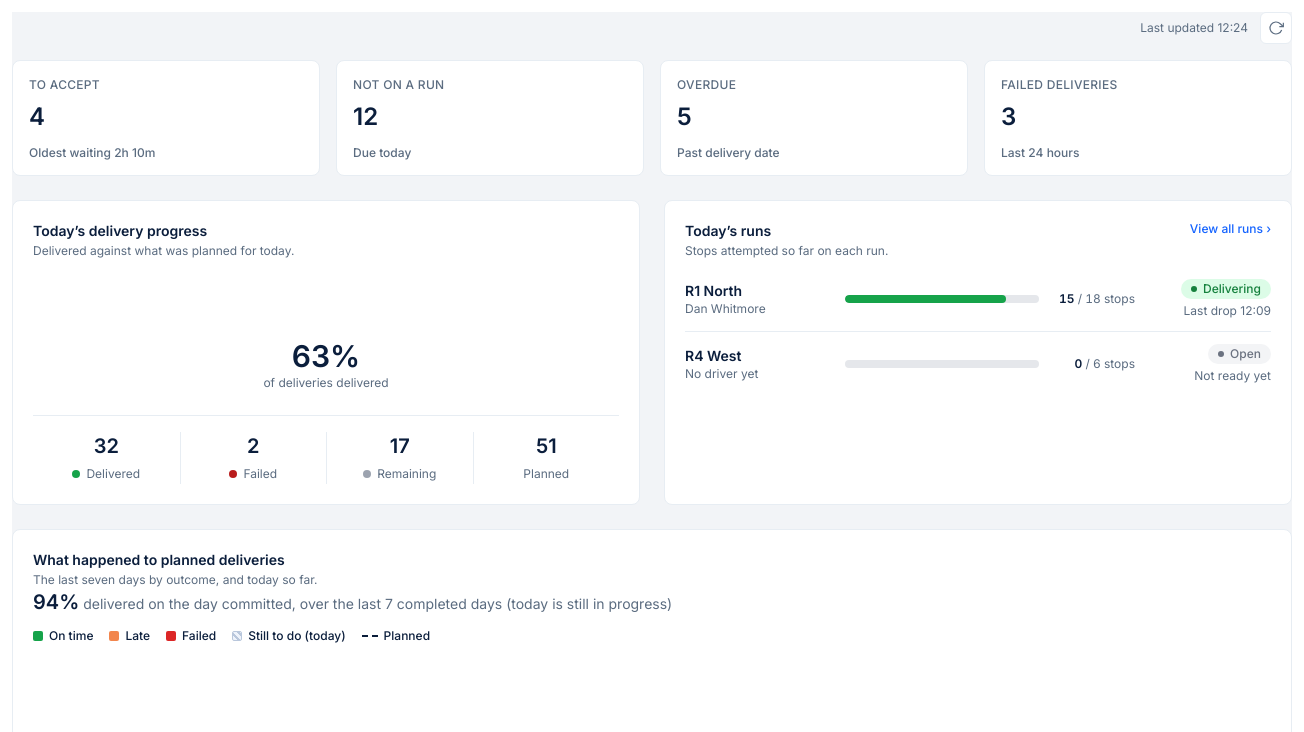
it: DeliveryDashboard › refreshes on demand without re-fetching the history
Expected: the text "R1 North" is shown, [685,282,742,299]
Click the button named "Refresh". click: (1276, 28)
box: [1260,12,1292,44]
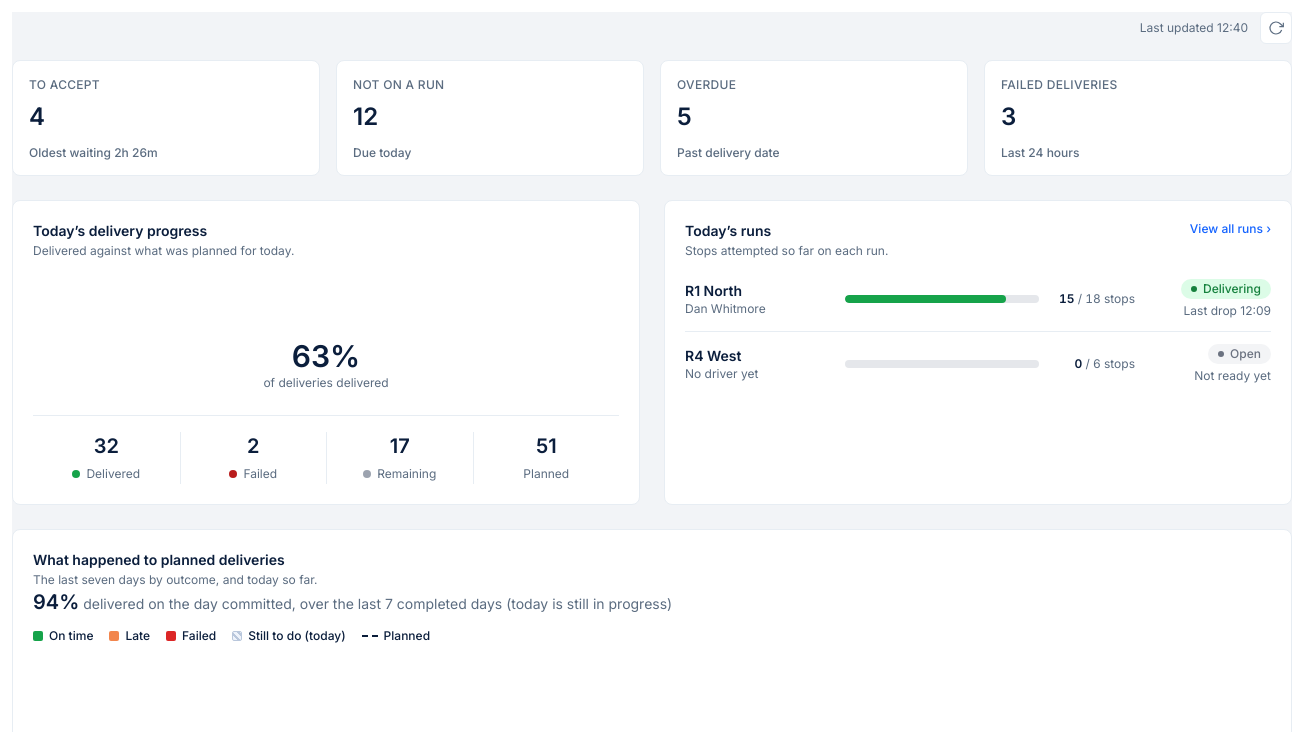
Now the text "Last updated 12:40" is shown, box [1140,20,1248,36]
